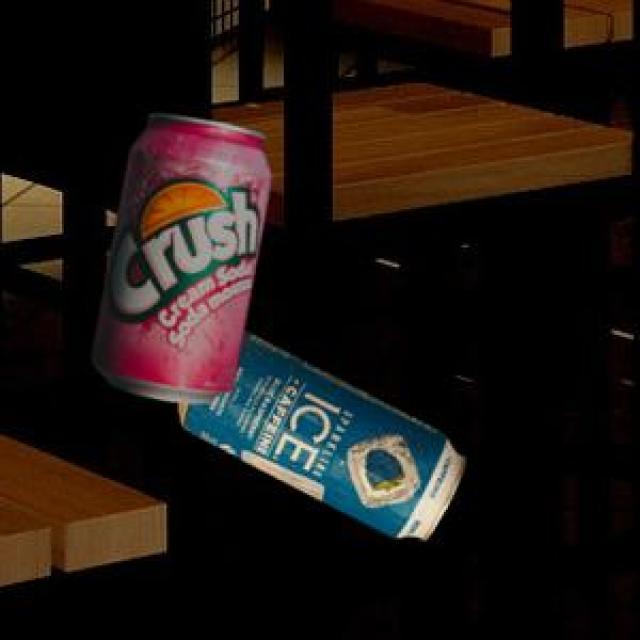Can: (176, 327, 462, 537), (89, 110, 268, 400)
